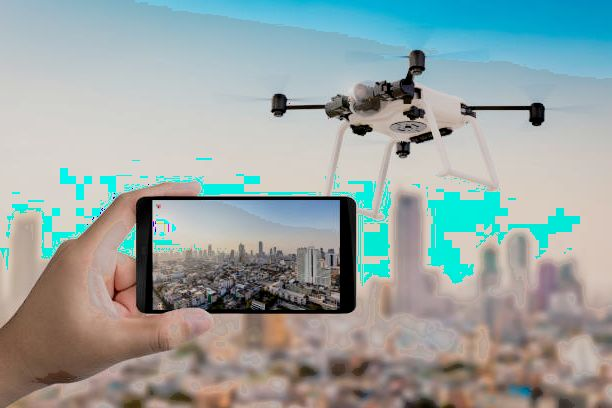Drone: (215, 39, 592, 167)
